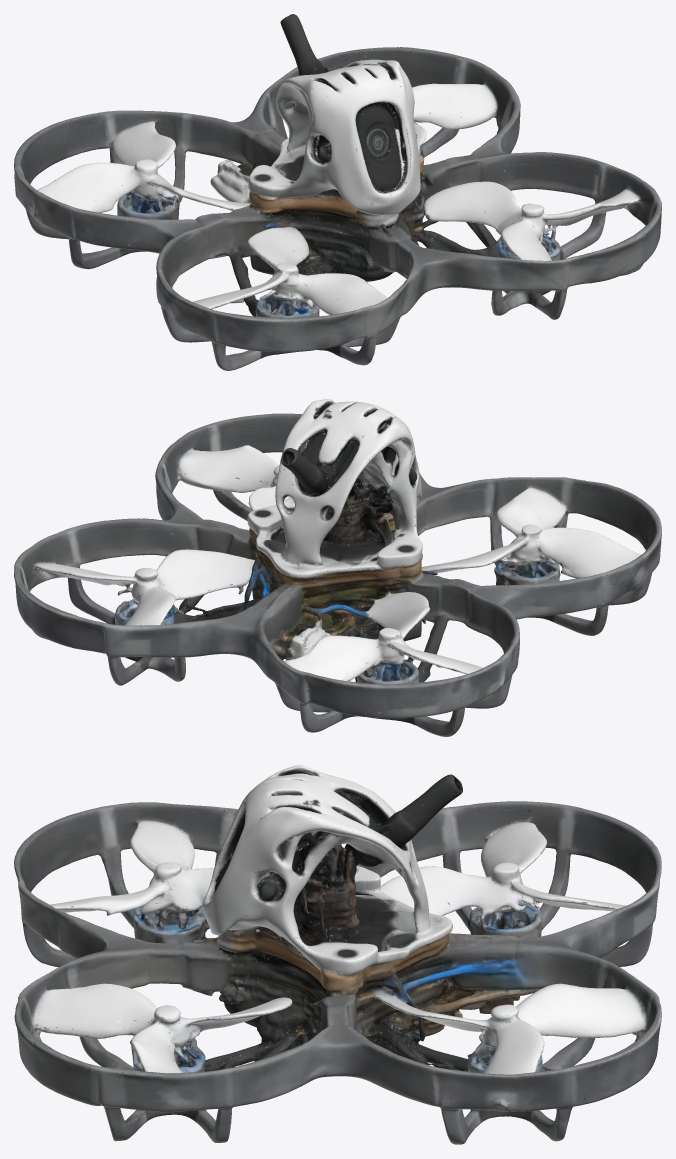
Rendered from fpv_drone.glb.
3 renders of one model, top to bottom at view 1: azimuth 30°, elevation 25°; view 2: azimuth 150°, elevation 25°; view 3: azimuth 270°, elevation 25°, orthographic. The views are drawn at different scales.
Bounding box in the file's own units: 2 × 0.8936 × 1.99.
Materials: 1 (1 with a texture image).
